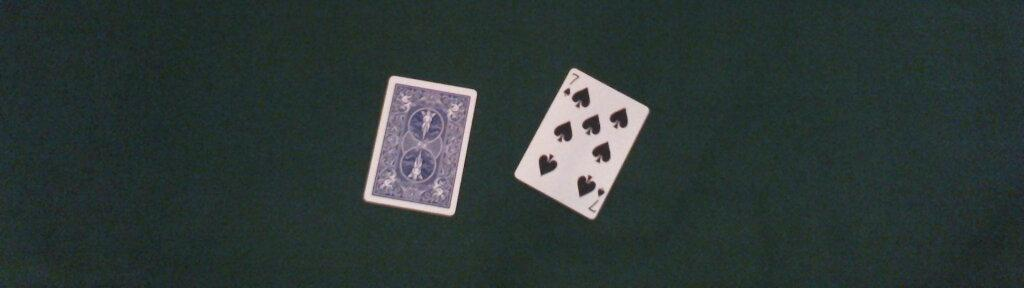back: (364, 73, 478, 217)
seven: (515, 68, 649, 221)
